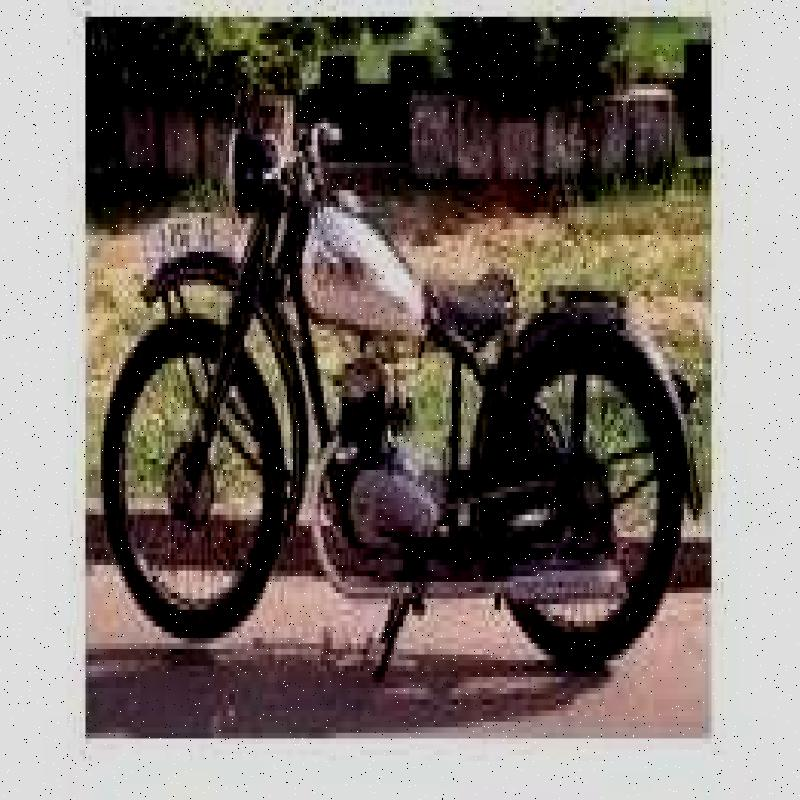bike: (87, 49, 711, 655)
